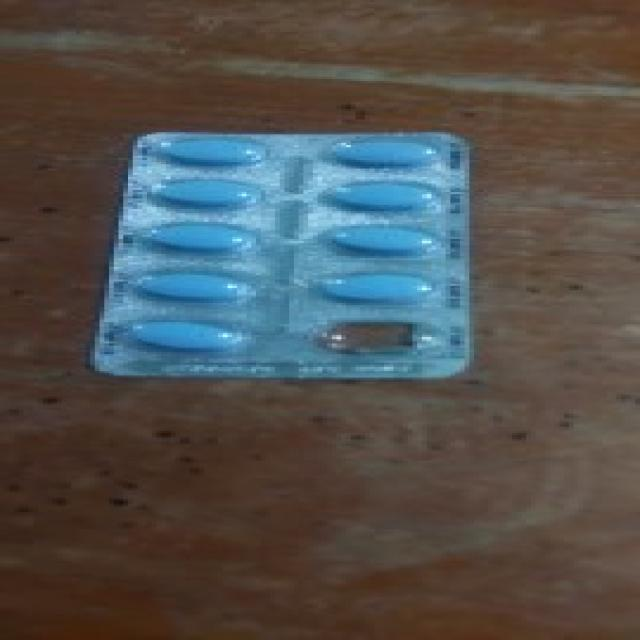Cacat: (94, 132, 470, 383)
Kemasan: (308, 315, 432, 364)
